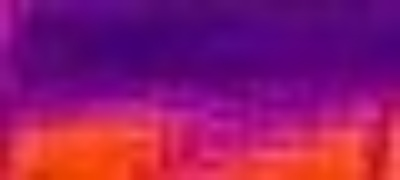Shadow: (1, 1, 400, 115)
